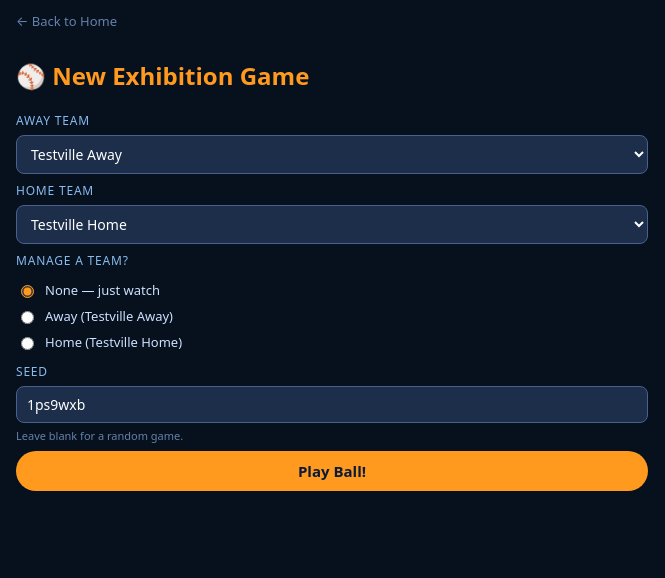
Test: ExhibitionSetupPage › custom teams: clicking managed-Away radio shows the StarterPitcherSelector
# Click "Away" managed radio to show the starter pitcher selector
Click the radio button labelled "Away (Testville Away)": (28, 318) [21,311,34,324]
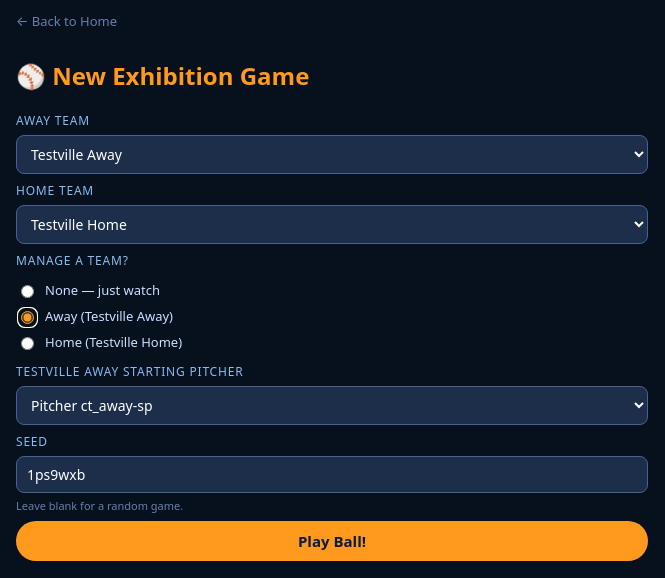
Result: the dropdown with test id "starting-pitcher-select" is shown at [16,386,648,425]
